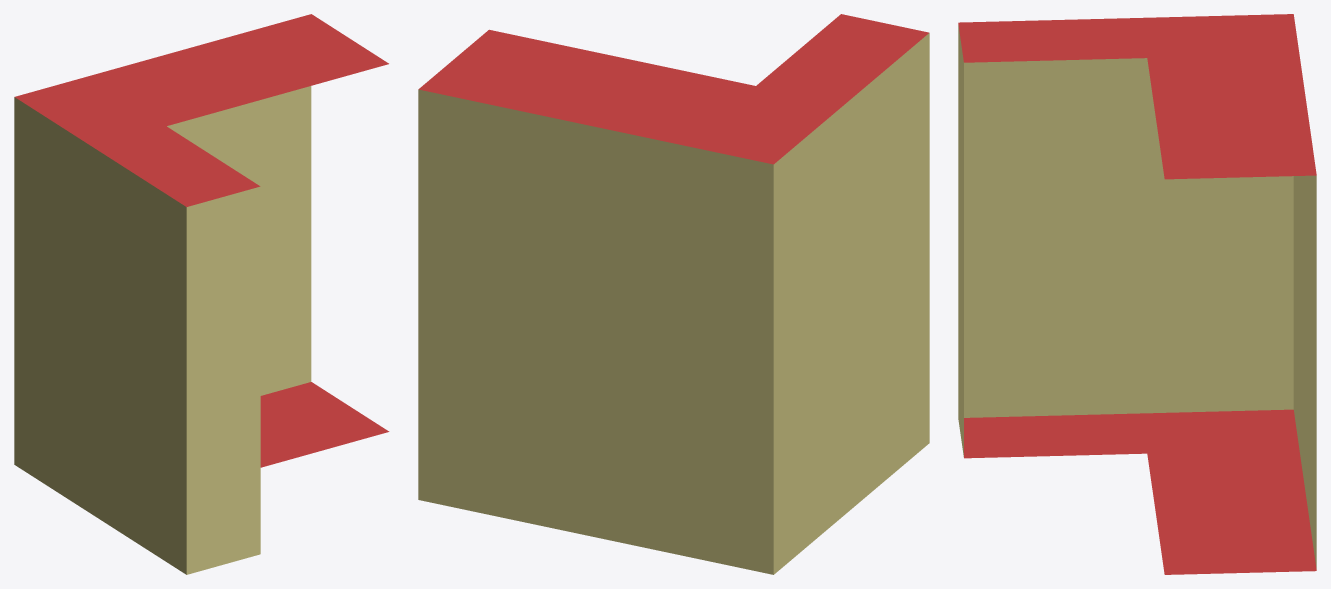
3 views of the same model, side by side, from view 1: azimuth 30°, elevation 25°; view 2: azimuth 150°, elevation 25°; view 3: azimuth 270°, elevation 25° (orthographic). The views are drawn at different scales.
Bounding box in the file's own units: 5.7 × 5.22 × 6.35.
